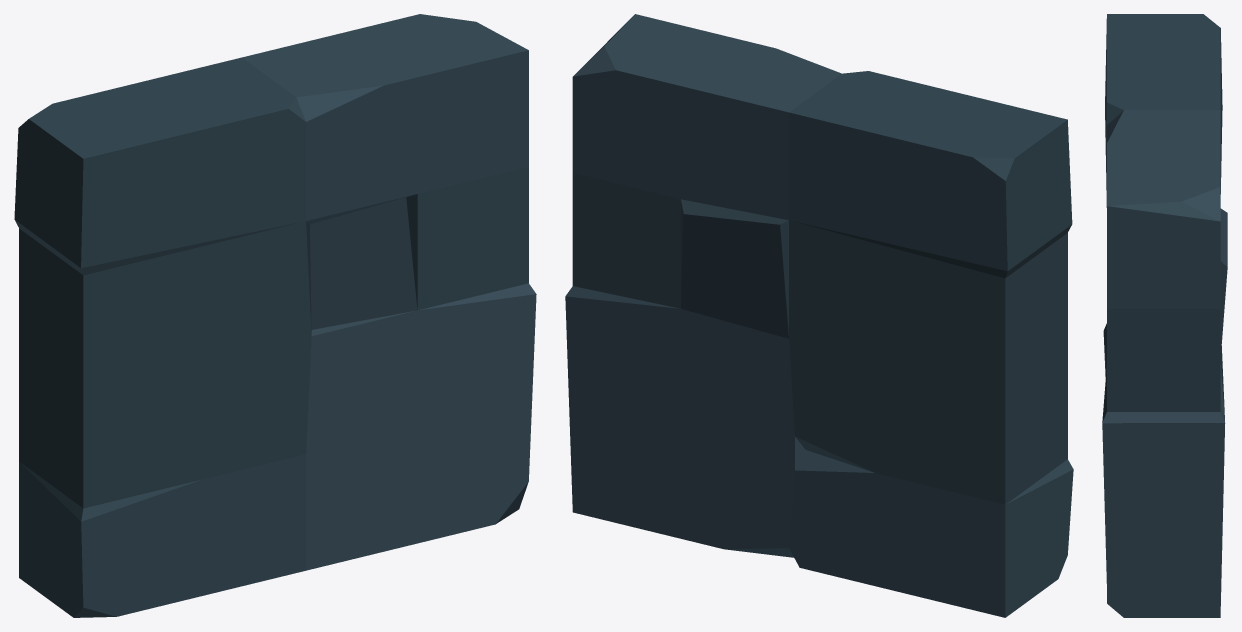
The model's file is level_element_1x4x4.fbx.
3 renders of one model, left to right at view 1: azimuth 30°, elevation 25°; view 2: azimuth 150°, elevation 25°; view 3: azimuth 270°, elevation 25°, orthographic. The views are drawn at different scales.
Visible parts, largest first — view 1: level_element_1x4x4; view 2: level_element_1x4x4; view 3: level_element_1x4x4.
Boxes of the visible parts, x1,y1,x2,y2 form: level_element_1x4x4: (14, 14, 536, 617); level_element_1x4x4: (565, 14, 1073, 617); level_element_1x4x4: (1102, 14, 1227, 617).
Bounding box in the file's own units: 408 × 400 × 110.
